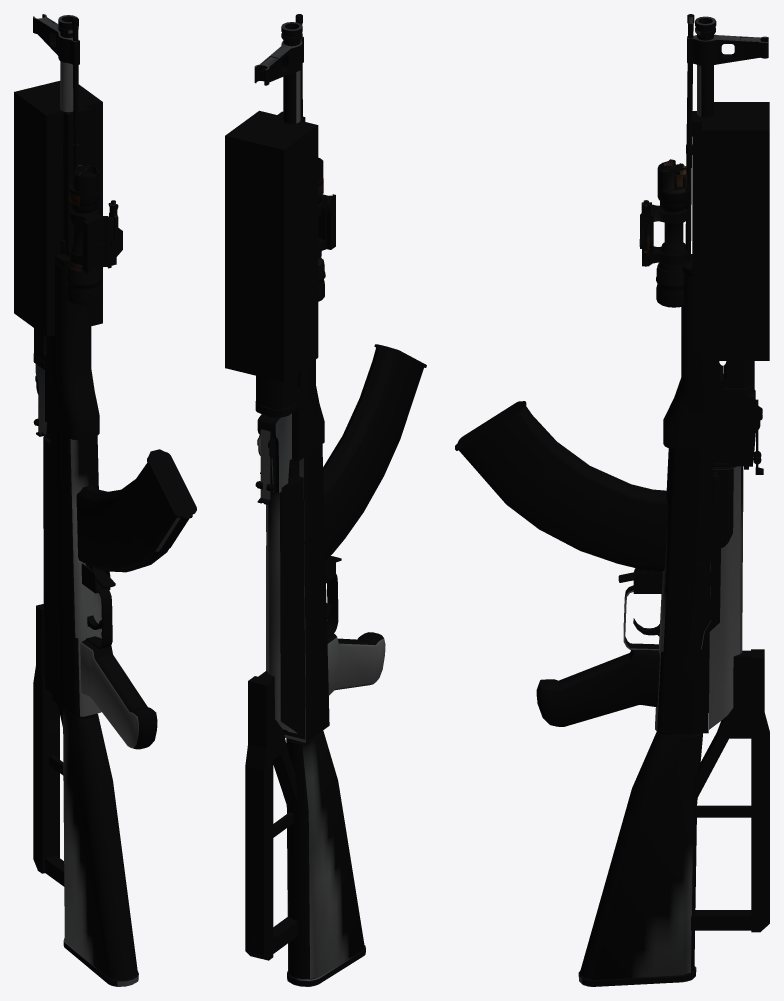
Rendered from AK47__Handguard_AK_Quad__Light_Weapon__Stock_AK_Folding.fbx.
3 views of the same model, side by side, from view 1: azimuth 30°, elevation 25°; view 2: azimuth 150°, elevation 25°; view 3: azimuth 270°, elevation 25° (orthographic). The views are drawn at different scales.
Visible parts, largest first — view 1: asset_AK47.001; view 2: asset_AK47.001; view 3: asset_AK47.001.
Boxes of the visible parts, left/top/right/bottom form: asset_AK47.001: left=14, top=14, right=196, bottom=986; asset_AK47.001: left=225, top=14, right=426, bottom=986; asset_AK47.001: left=455, top=14, right=769, bottom=986.
Size of the model in its own units: 0.0336 by 0.528 by 0.1561.
